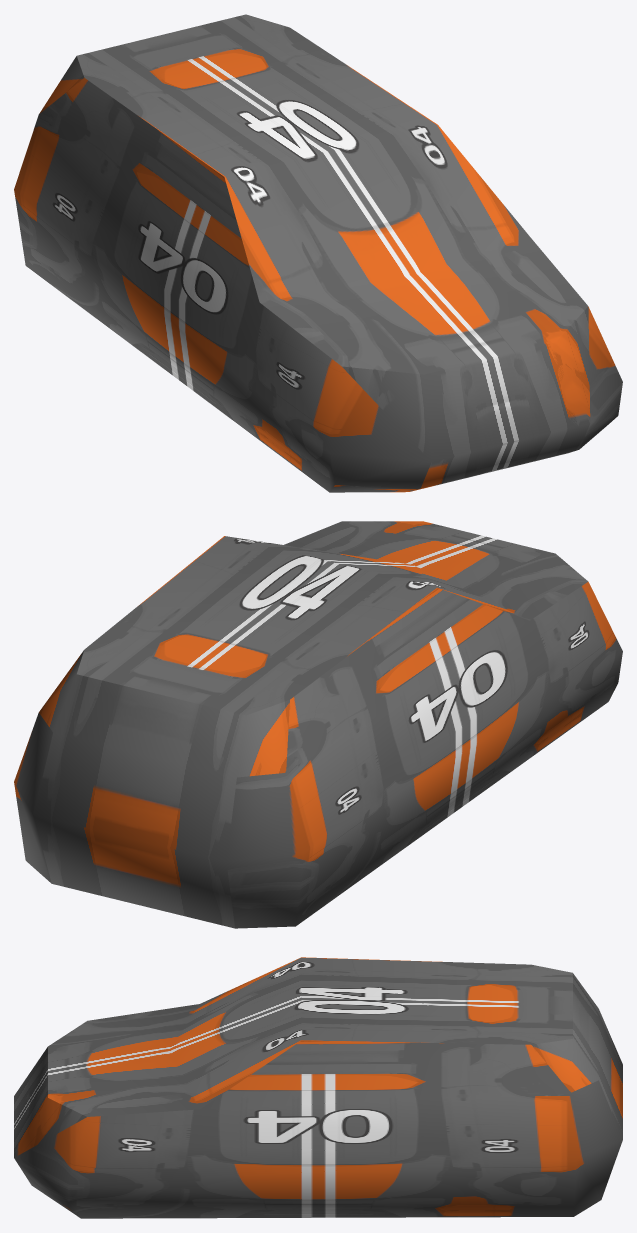
File: RealisticCar01_CollisionMesh.FBX
3 renders of one model, top to bottom at view 1: azimuth 30°, elevation 25°; view 2: azimuth 150°, elevation 25°; view 3: azimuth 270°, elevation 25°, orthographic. The views are drawn at different scales.
Parts seen in each view (by area): view 1: Car01_Collider; view 2: Car01_Collider; view 3: Car01_Collider.
Boxes of the visible parts, <box> form: Car01_Collider: <box>14,14,622,492</box>; Car01_Collider: <box>14,521,622,928</box>; Car01_Collider: <box>14,957,622,1218</box>.
Size of the model in its own units: 1.93 by 4.36 by 1.3.
Materials: 1 (1 with a texture image).
